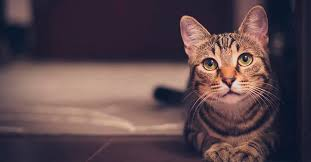Gato: (176, 4, 283, 159)
